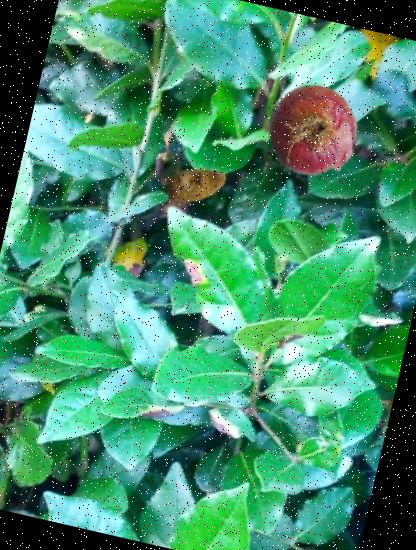Ginger: (159, 148, 232, 221)
Onion: (257, 74, 370, 189)
